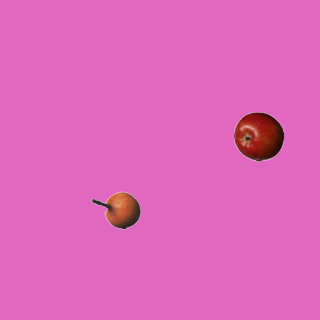Apple Braeburn: (233, 111, 283, 161)
Granadilla: (90, 185, 140, 235)
